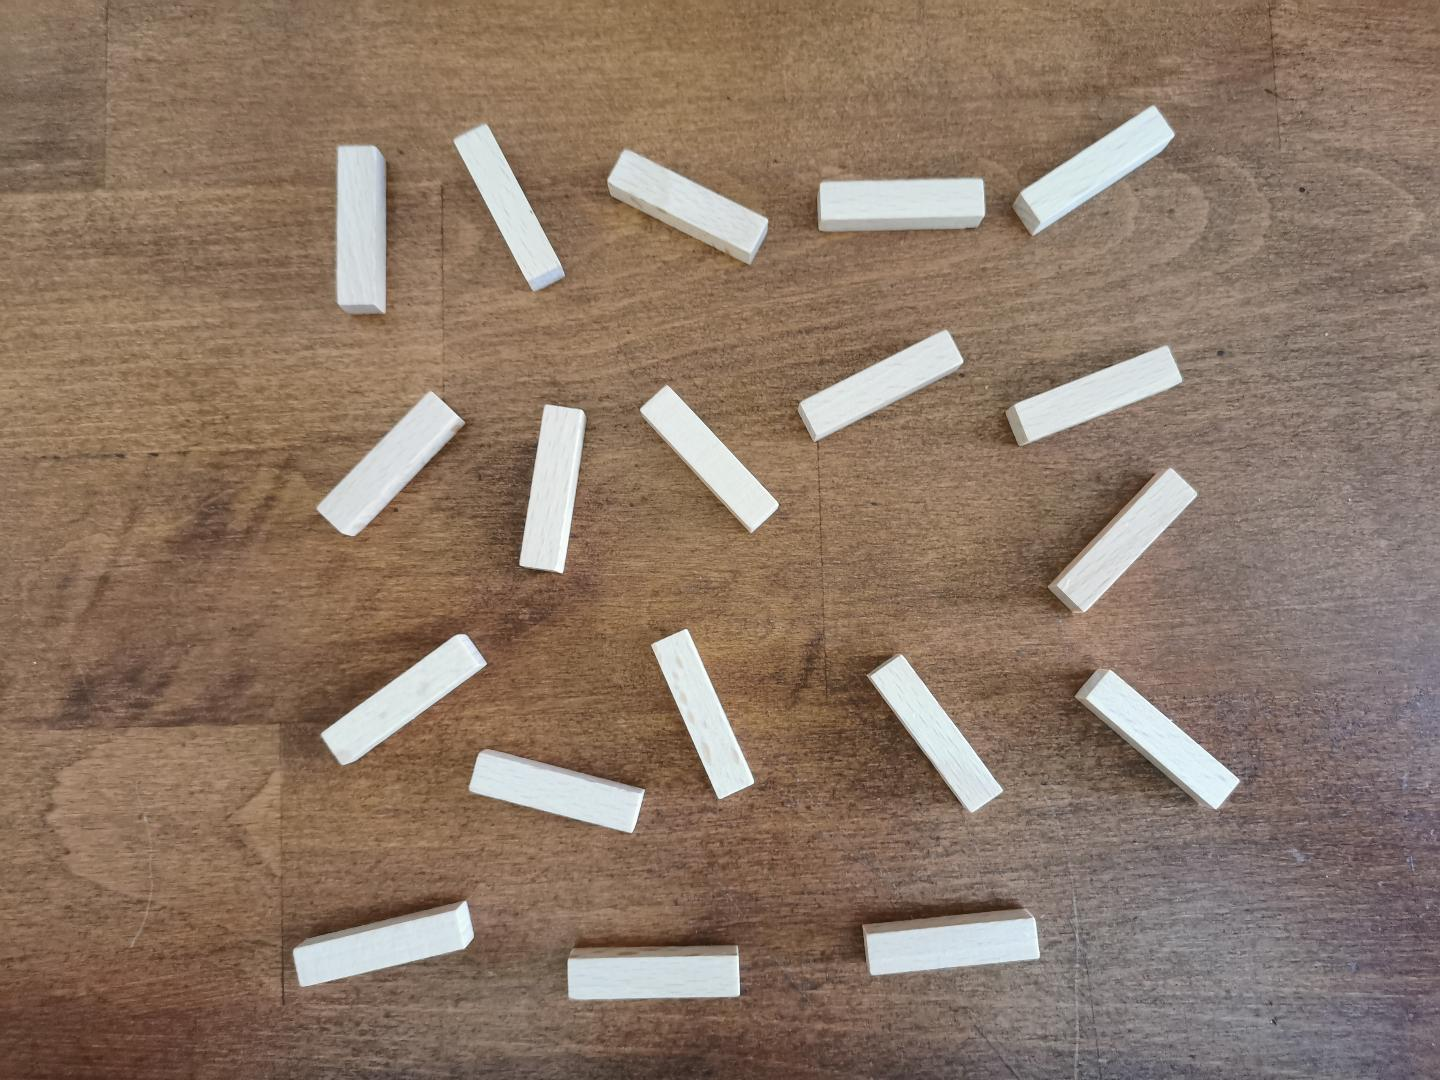jenga: (1077, 669, 1240, 808), (321, 635, 486, 765), (317, 394, 464, 538), (1049, 470, 1195, 613), (869, 656, 1001, 812), (1015, 107, 1176, 234), (642, 386, 779, 532), (608, 149, 768, 264), (456, 124, 566, 289), (798, 332, 962, 441), (652, 630, 754, 799), (1007, 346, 1181, 445), (293, 903, 473, 987), (469, 751, 644, 833), (864, 909, 1041, 976), (520, 405, 585, 574), (568, 945, 739, 1002), (819, 177, 984, 230), (338, 146, 386, 312)
